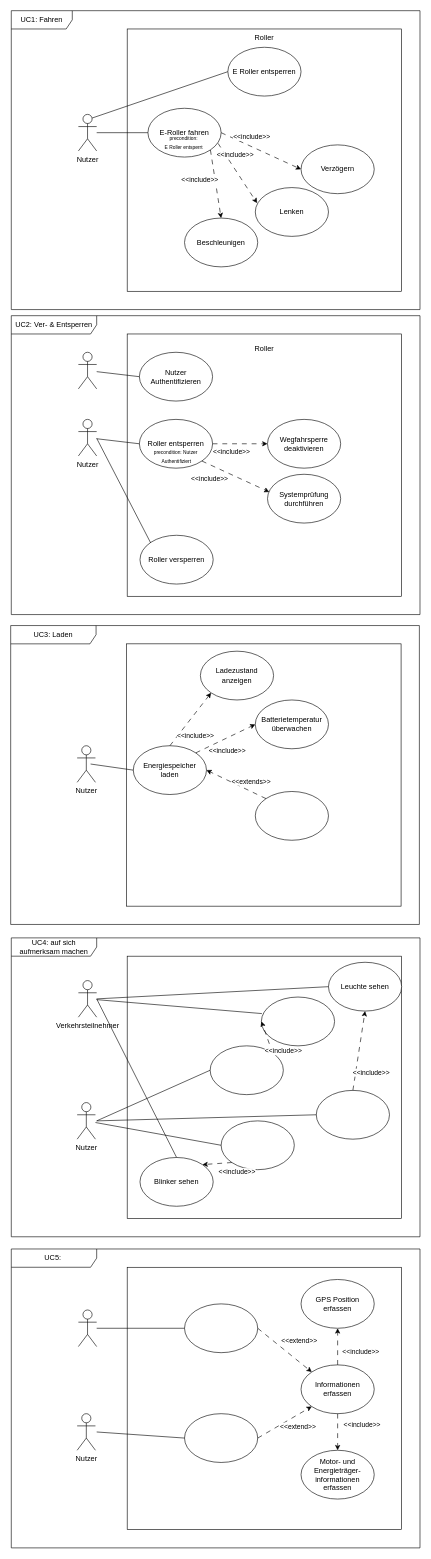
Image size: 431x1559. Some labels were removed from this diagram. Here are the shapes that lost their labels. From the top down, the centre of each, then its label:
At pixel 87 370: "App Service".
At pixel 291 815: "Leistung drosseln".
At pixel 298 1021: "Warnsignal hören".
At pixel 246 1070: "Warnsignal betätigen".
At pixel 352 1114: "Beleuchtung aktivieren".
At pixel 257 1145: "Abbiegen abzeigen".
At pixel 87 1328: "Smartphone App".
At pixel 221 1328: "Informationen OTA erhalten".
At pixel 221 1437: "Informationen über HMI erhalten".
